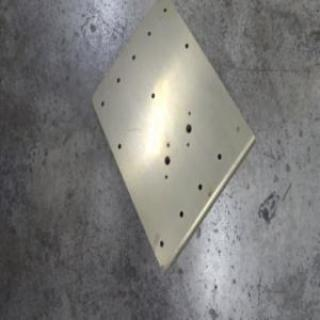MetalSheettrack_idkeyframe: (88, 0, 257, 278)
